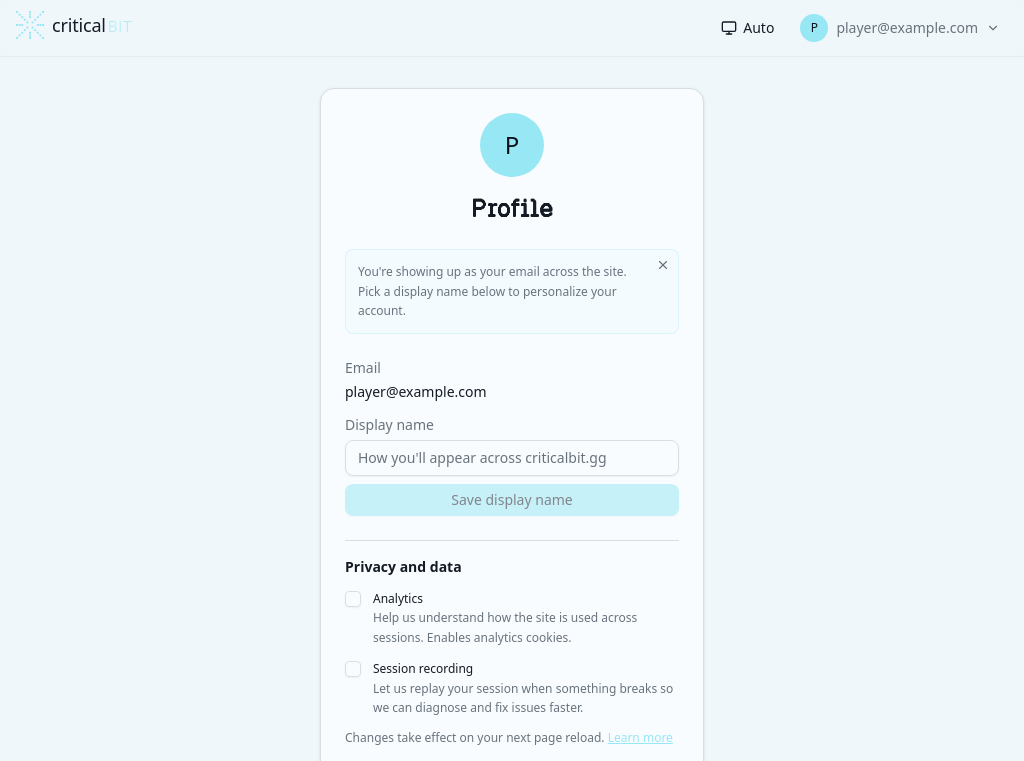
Test: ProfilePage display name nudge › dismisses the nudge for the session when X is clicked
Expected: the element with test id "display-name-nudge" is shown, [345,249,679,334]
Click the button named "dismiss display name suggestion" at (663, 265), box [656,258,670,272]
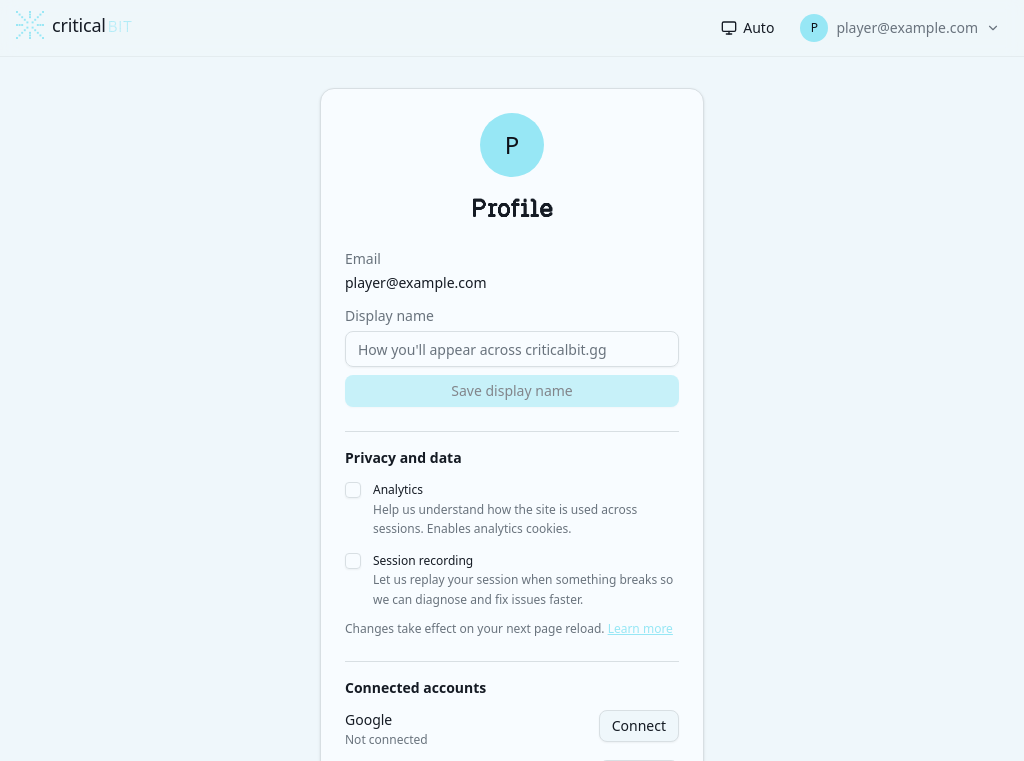
Expected: the element with test id "display-name-nudge" is gone
